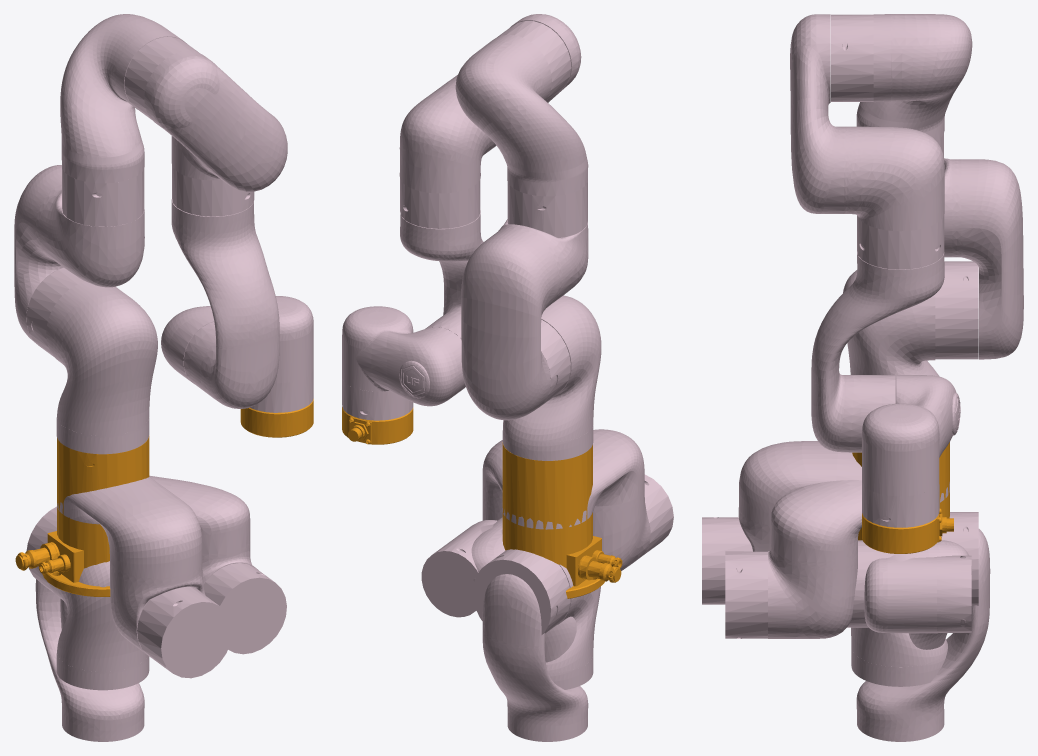
File: xARM7.glb
3 views of the same model, side by side, from view 1: azimuth 30°, elevation 25°; view 2: azimuth 150°, elevation 25°; view 3: azimuth 270°, elevation 25° (orthographic). The views are drawn at different scales.
Parts seen in each view (by area): view 1: mesh.005, visuals.006, visuals.003, visuals.002, visuals.004, visuals.005, mesh.004, visuals.007, mesh.006, visuals.001, mesh.007, visuals; view 2: visuals.005, visuals.004, visuals.003, visuals.001, visuals.007, mesh.007, visuals.006, mesh.005, mesh.006, visuals.002, mesh.002, mesh.001 (+2 smaller); view 3: visuals.003, mesh.004, visuals.004, visuals.005, visuals.001, visuals.002, mesh.005, visuals.006, mesh.002, mesh.007, mesh.006, mesh.001 (+2 smaller).
Part boxes in pixels (box(x1,y1,x2,y2)): mesh.005: box(57, 477, 232, 678); visuals.006: box(26, 267, 157, 454); visuals.003: box(144, 51, 287, 216); visuals.002: box(171, 199, 279, 408); visuals.004: box(60, 14, 198, 183); visuals.005: box(14, 165, 144, 343); mesh.004: box(149, 475, 286, 654); visuals.007: box(15, 435, 149, 596); mesh.006: box(26, 506, 149, 690); visuals.001: box(161, 296, 313, 412); mesh.007: box(35, 579, 144, 741); visuals: box(240, 399, 313, 437); visuals.005: box(461, 181, 588, 420); visuals.004: box(455, 21, 588, 196); visuals.003: box(399, 14, 581, 228); visuals.001: box(342, 306, 465, 420); visuals.007: box(502, 442, 622, 598); mesh.007: box(482, 574, 588, 741); visuals.006: box(502, 295, 601, 460); mesh.005: box(502, 429, 673, 570); mesh.006: box(472, 549, 600, 689); visuals.002: box(400, 210, 483, 338); mesh.002: box(421, 520, 502, 617); mesh.001: box(471, 517, 576, 662); visuals.003: box(790, 14, 944, 269); mesh.004: box(725, 480, 861, 638); visuals.004: box(831, 14, 972, 140); visuals.005: box(936, 133, 1023, 359); visuals.001: box(862, 375, 960, 527); visuals.002: box(811, 251, 944, 452); mesh.005: box(702, 441, 949, 604); visuals.006: box(843, 261, 978, 403); mesh.002: box(864, 554, 971, 633); mesh.007: box(856, 529, 990, 741); mesh.006: box(851, 512, 978, 686); mesh.001: box(847, 540, 971, 649).
Bounding box in the file's own units: 0.3358 × 0.7758 × 0.3108.
